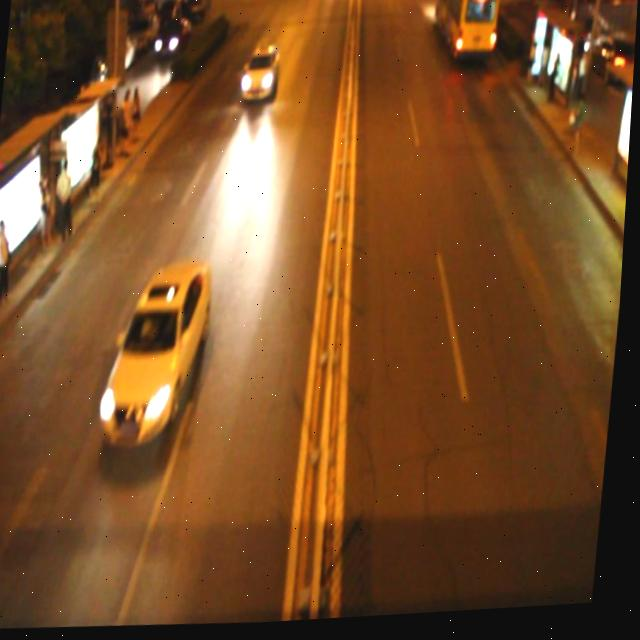car: (99, 255, 219, 458), (238, 43, 283, 107)
van: (431, 0, 500, 62)
